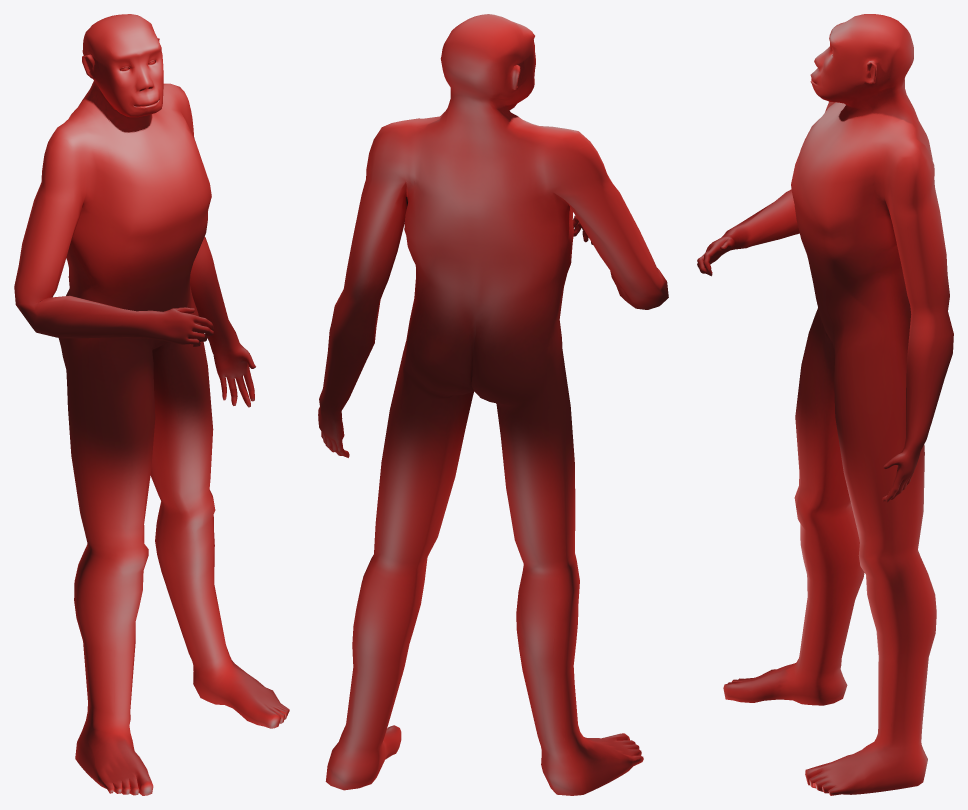
File: h-turkana.glb
3 renders of one model, left to right at view 1: azimuth 30°, elevation 25°; view 2: azimuth 150°, elevation 25°; view 3: azimuth 270°, elevation 25°, orthographic. The views are drawn at different scales.
Bounding box in the file's own units: 0.6504 × 1.6 × 0.526.
Materials: 1 (1 with a texture image).
